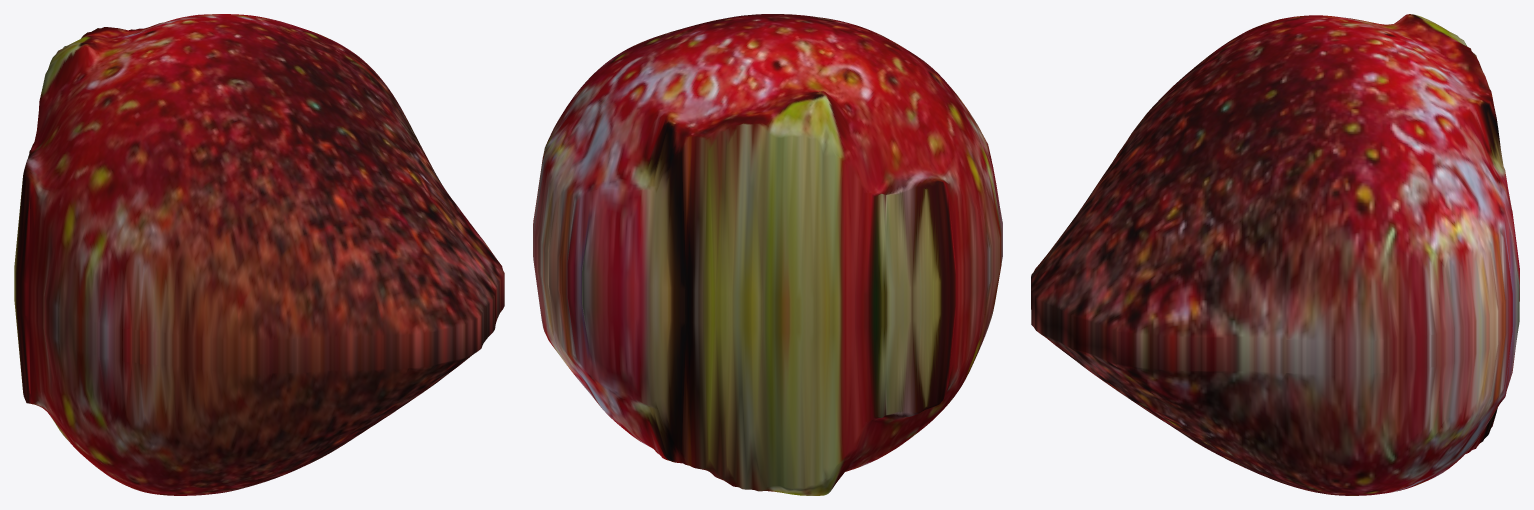
File: strawberry_9_2.obj
The picture shows the model from 3 angles, left to right: view 1: azimuth 30°, elevation 25°; view 2: azimuth 150°, elevation 25°; view 3: azimuth 270°, elevation 25°; orthographic projection.
Visible parts, largest first — view 1: Grid; view 2: Grid; view 3: Grid.
Boxes of the visible parts, x1,y1,x2,y2 form: Grid: [14, 14, 504, 495]; Grid: [533, 14, 1002, 495]; Grid: [1031, 14, 1519, 495].
Size of the model in its own units: 1.5 by 1.6 by 1.62.
1 material, 1 textured.
